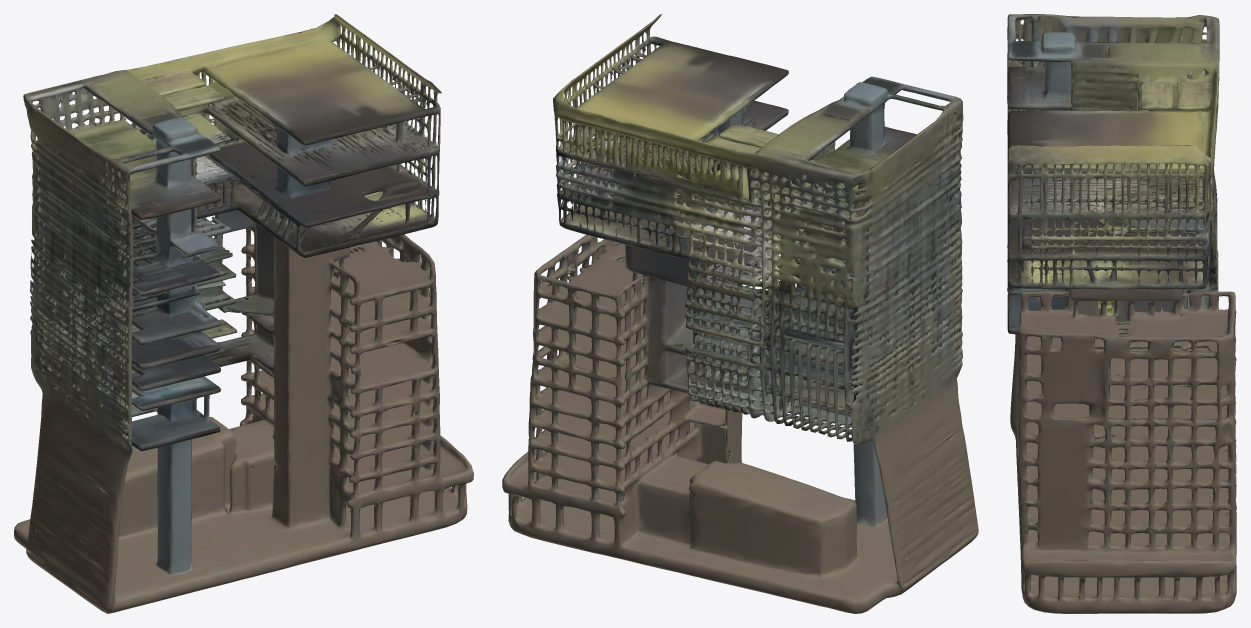
File: sample_2026-01-24T055452.643.glb
3 views of the same model, side by side, from view 1: azimuth 30°, elevation 25°; view 2: azimuth 150°, elevation 25°; view 3: azimuth 270°, elevation 25° (orthographic). The views are drawn at different scales.
Visible parts, largest first — view 1: world; view 2: world; view 3: world.
Boxes of the visible parts, box(x1,y1,x2,y2) form: world: box(14, 14, 473, 613); world: box(502, 14, 978, 613); world: box(1007, 14, 1236, 613).
Bounding box in the file's own units: 0.8724 × 0.9993 × 0.4641.
1 material, 1 textured.
